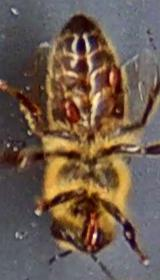varroa_mite: (43, 88, 94, 132)
